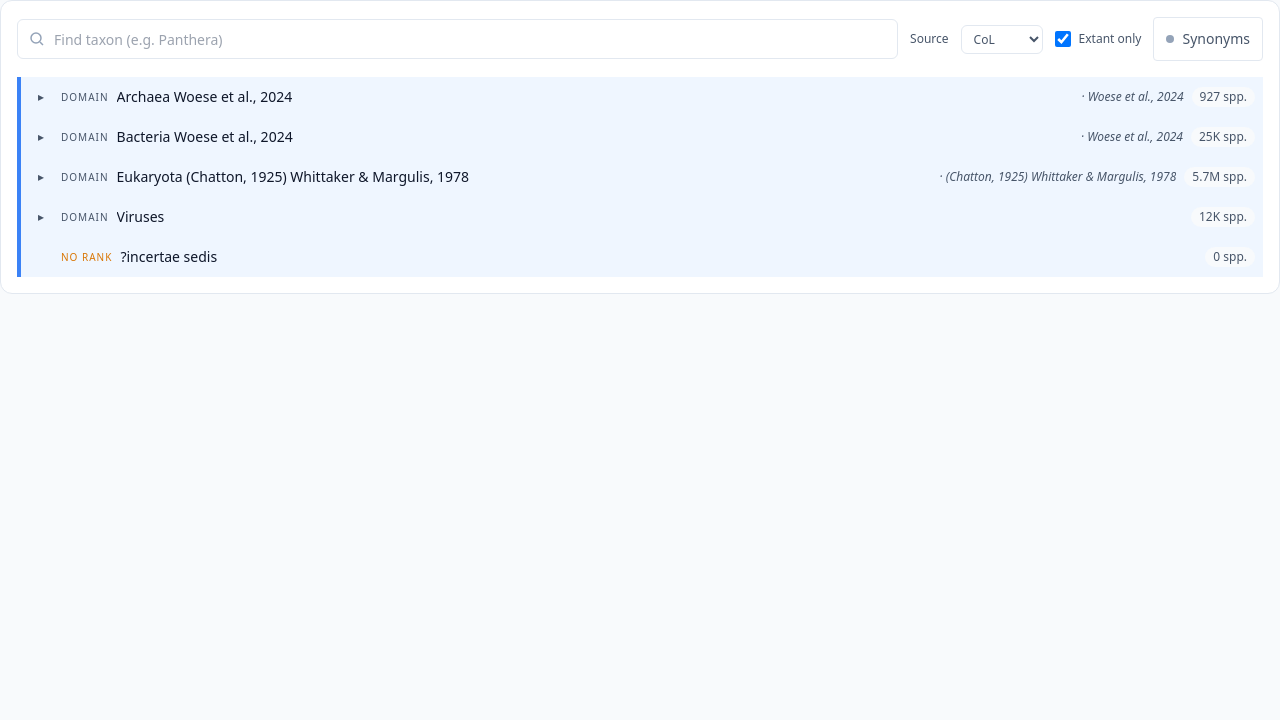
it: TaxonomicTree tier groups › load_more_appends_rows
Check: the element named "Taxonomic tree" is shown, box left=17, top=77, right=1263, bottom=277
Click the 4th button at (85, 177), box left=17, top=157, right=1263, bottom=197
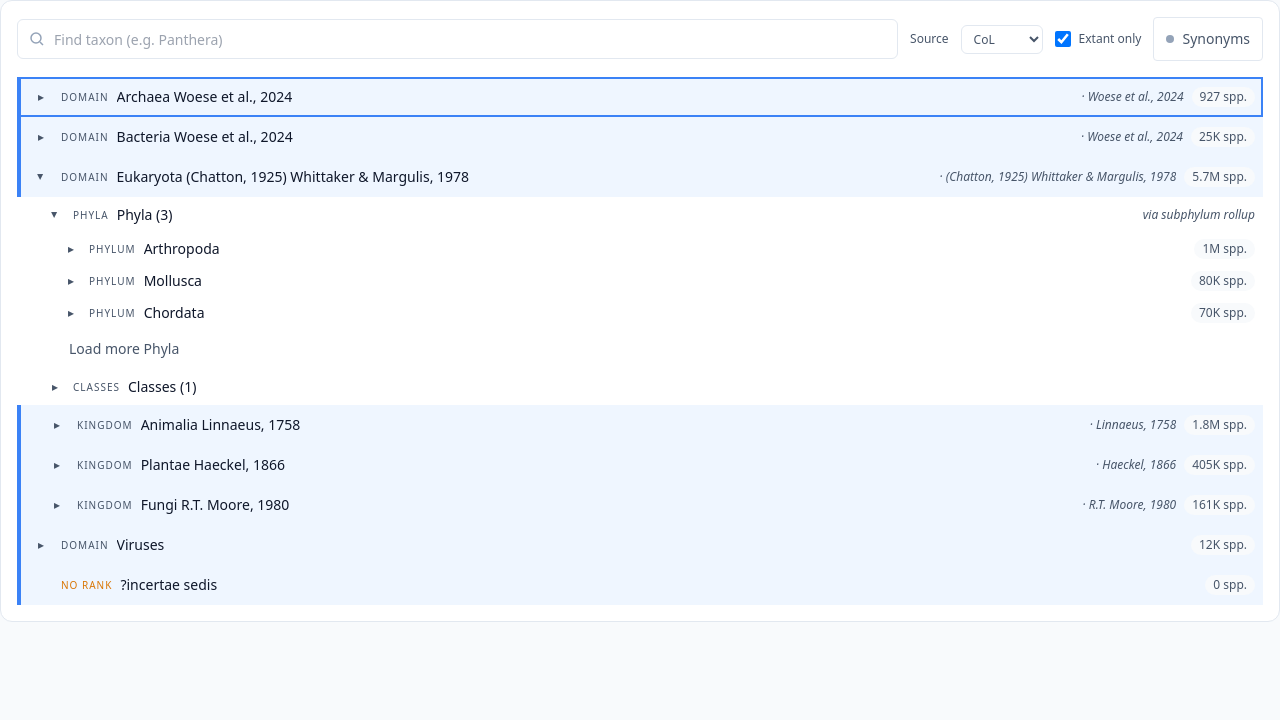
Check: the text "Arthropoda" is shown, box left=144, top=239, right=220, bottom=258
Check: the button "Load more Phyla" is shown
Click the button "Load more Phyla" at (124, 349), box left=57, top=335, right=191, bottom=363
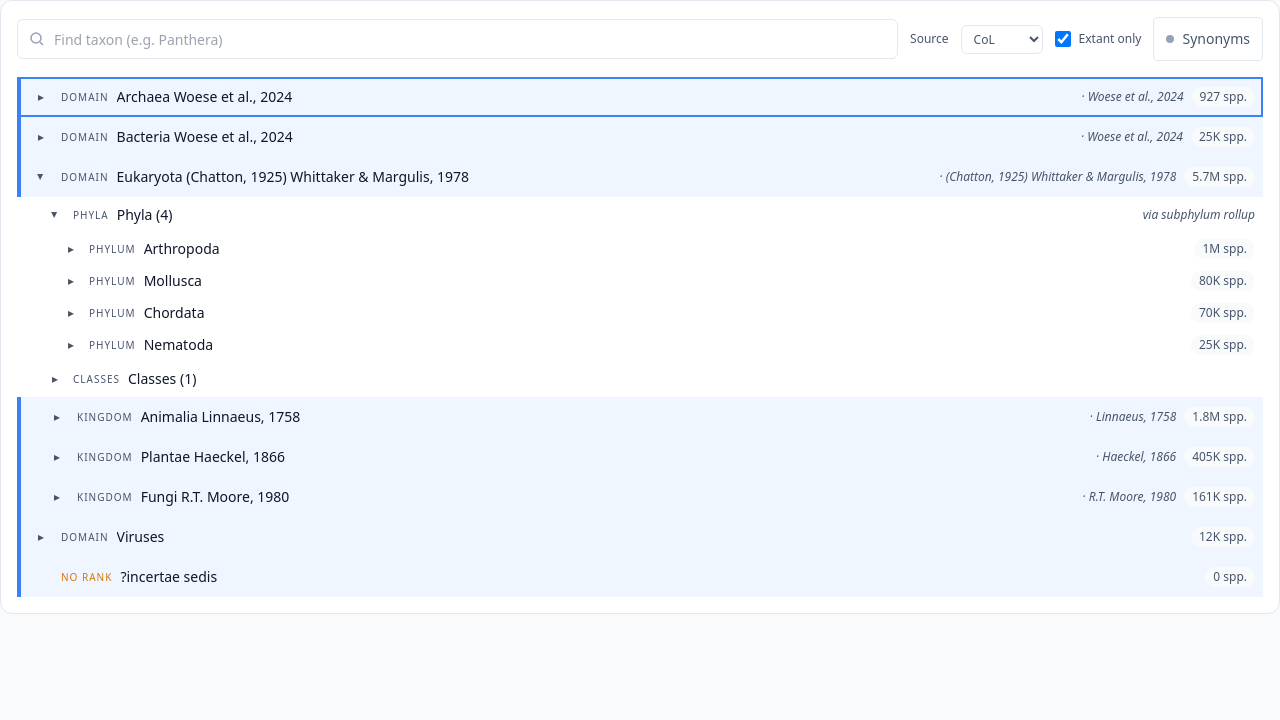
Check: the text "Nematoda" is shown, box left=144, top=335, right=213, bottom=354
Check: the button "Load more Phyla" is gone
